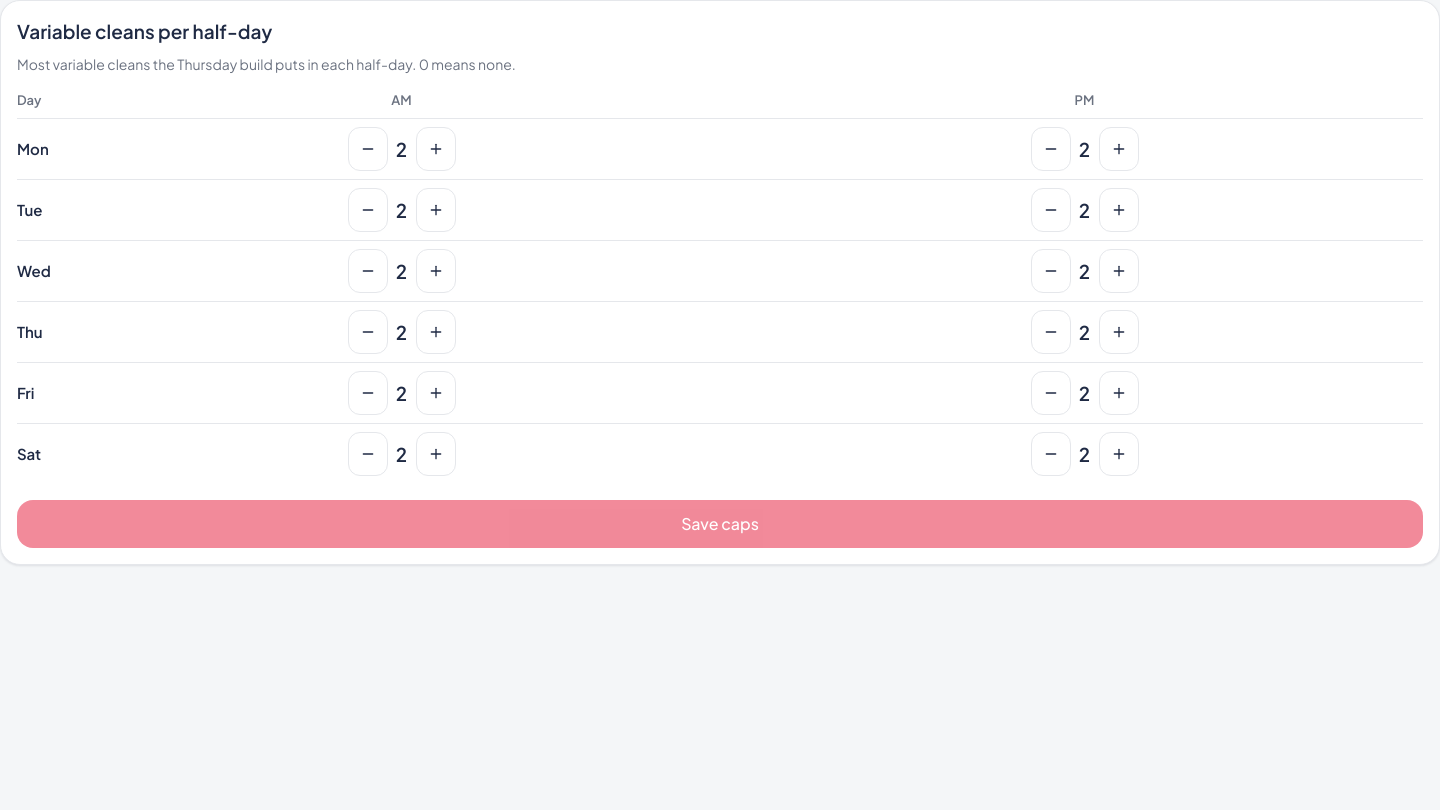
Test case: SettingsCapsGrid › steps a slot, saves all twelve and refreshes
Click the button named "More for PM on Thursday" at (1118, 332), box [1098,310,1138,354]
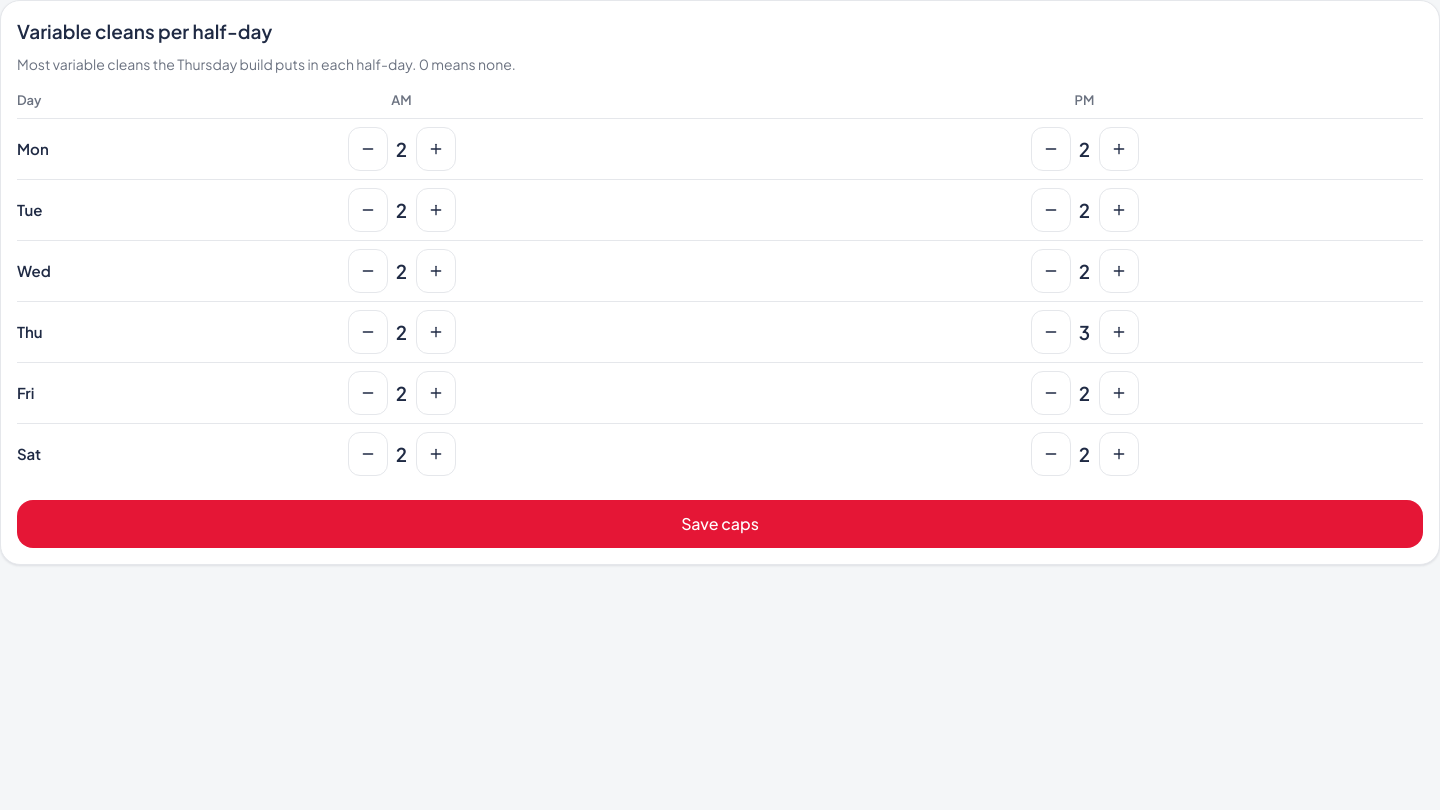
Click the button named "Fewer for AM on Monday" at (368, 149), box [348,127,388,171]
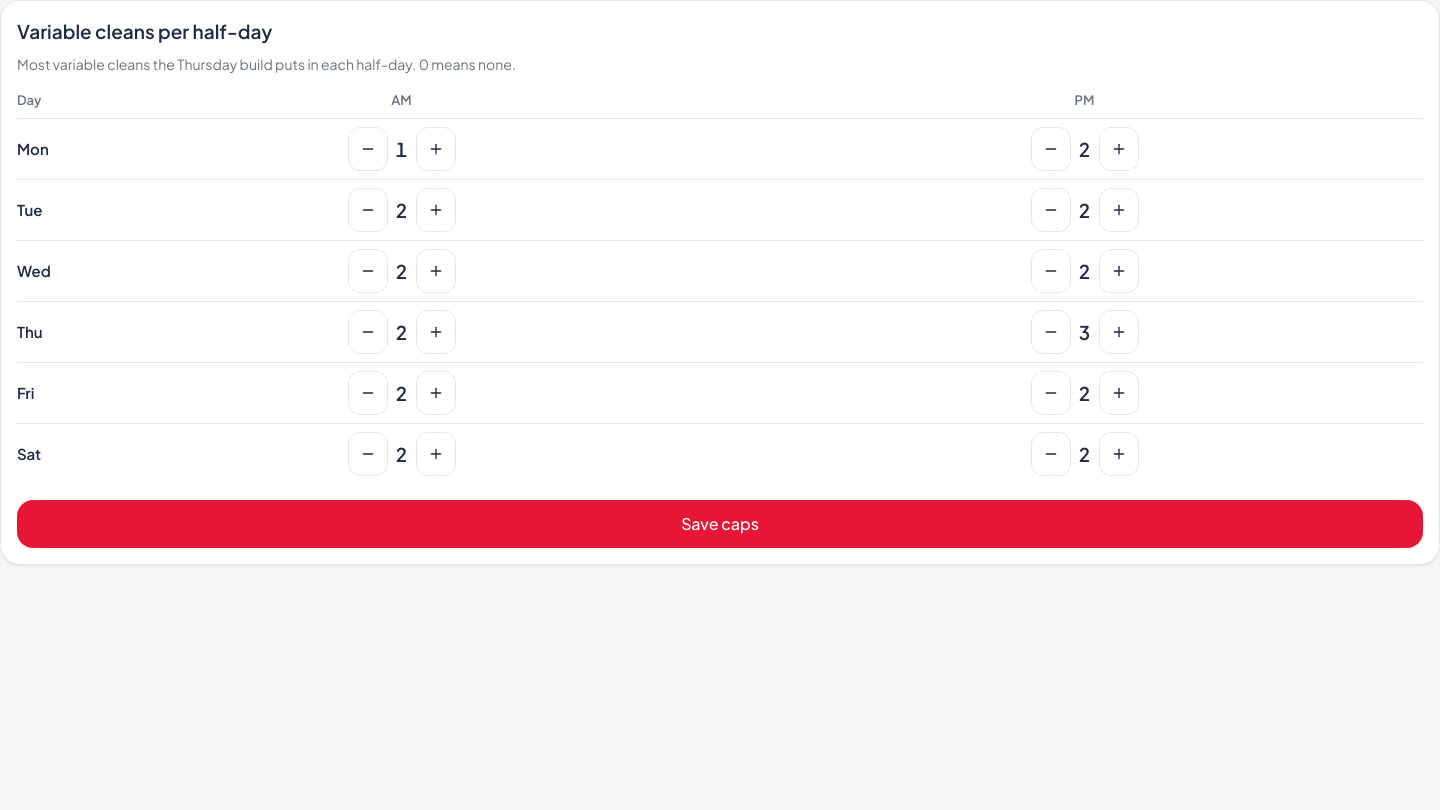
Click the button named "Fewer for AM on Monday" at (368, 149), box [348,127,388,171]
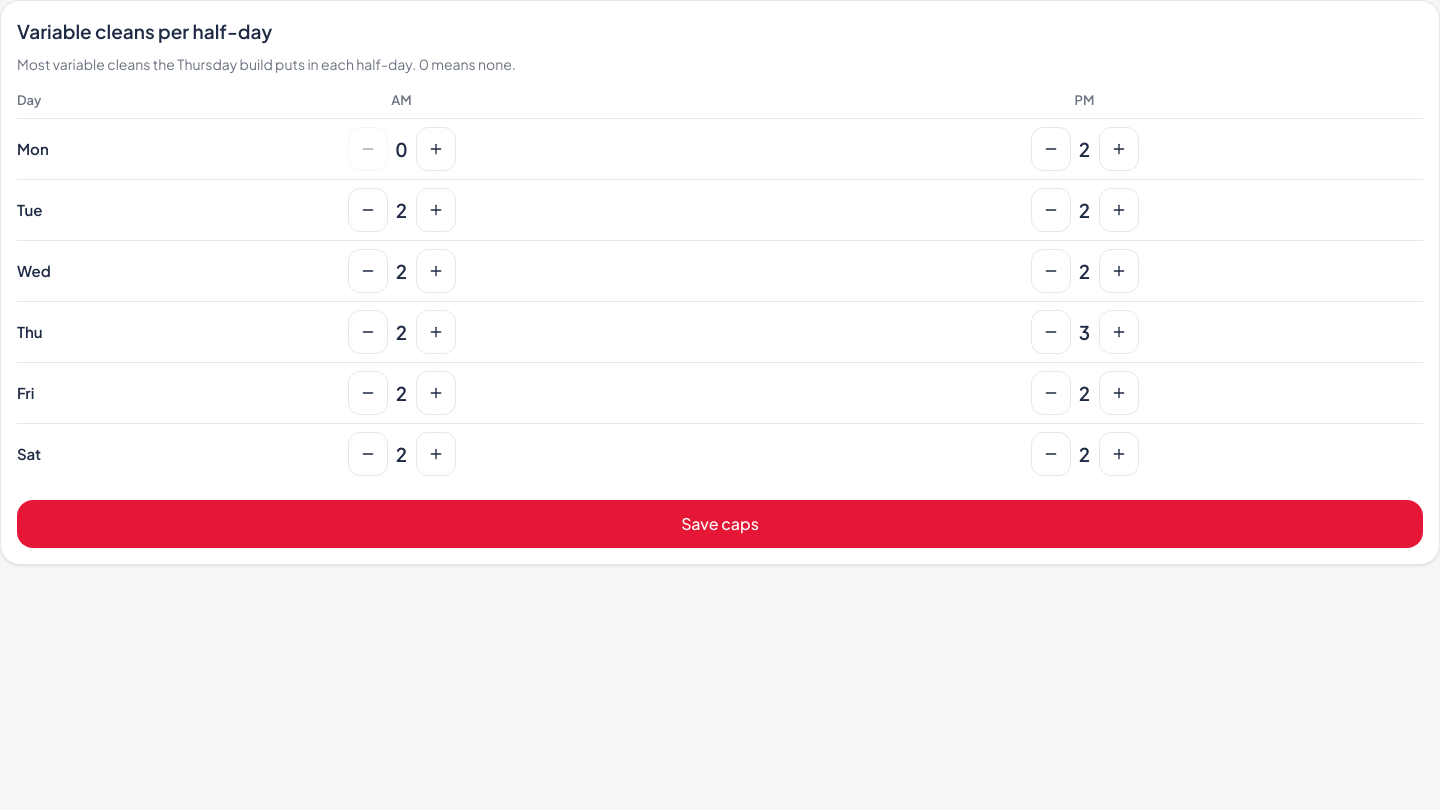
Expected: the text "3" is shown, [1079,320,1090,344]
Expected: the text "0" is shown, [396,137,407,161]
Click the button "Save caps" at (720, 524), box [17,500,1423,548]
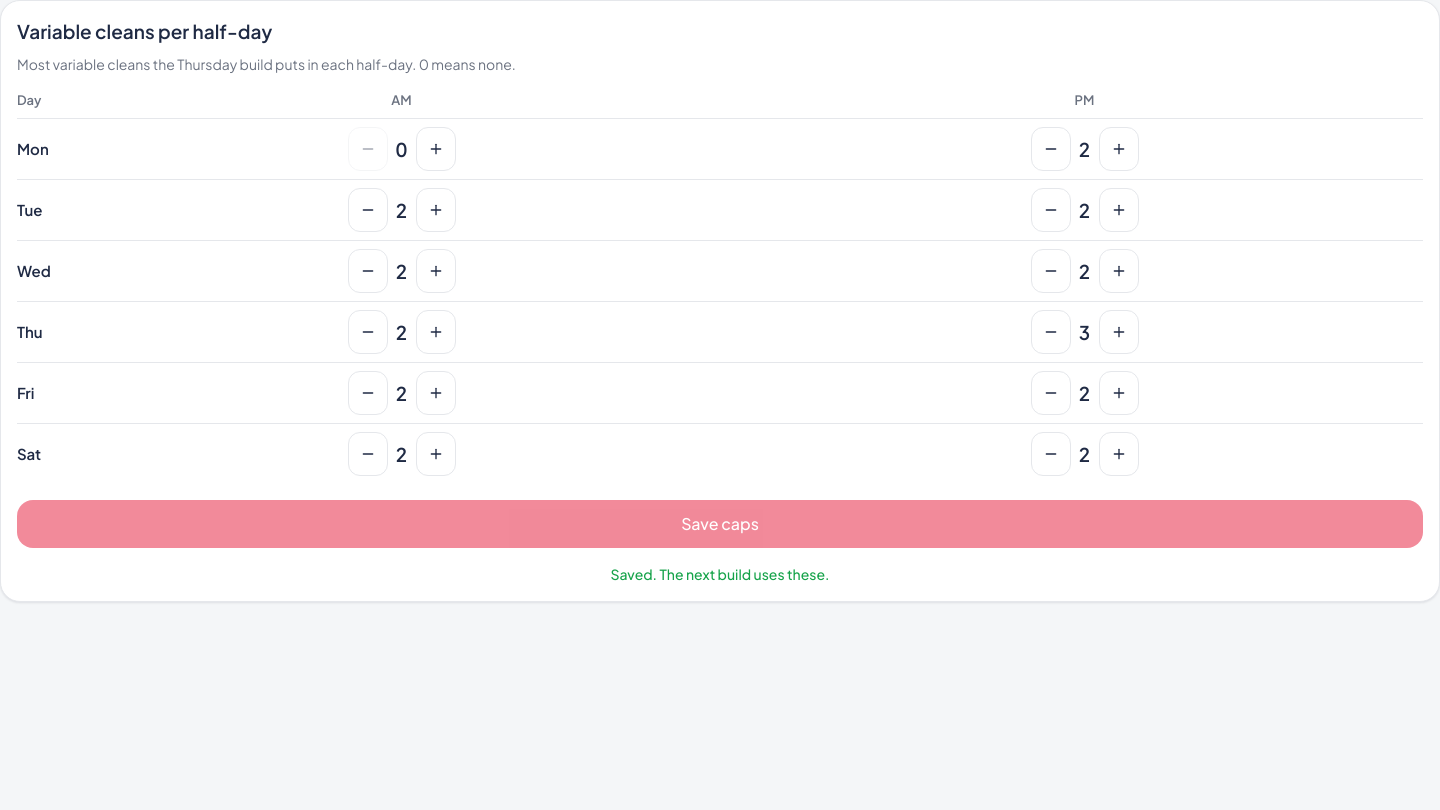
Expected: the message shows "Saved", [611,565,829,583]
Expected: the button "Save caps" is disabled, [17,500,1423,548]
